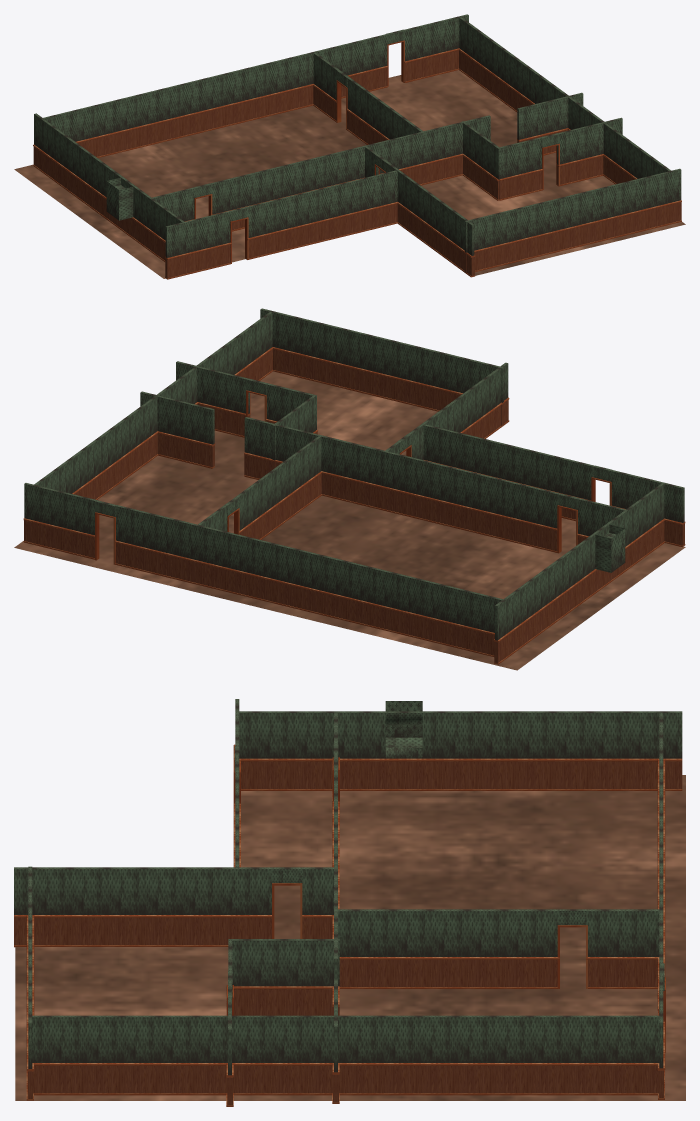
Rendered from Casa_Interior_Basic.obj.
The picture shows the model from 3 angles, top to bottom: view 1: azimuth 30°, elevation 25°; view 2: azimuth 150°, elevation 25°; view 3: azimuth 270°, elevation 25°; orthographic projection. The views are drawn at different scales.
Visible parts, largest first — view 1: Plane, Pared.012_Cube_Cube.013, Pared.015_Cube_Cube.016, Pared.016_Cube_Cube.018, Pared.020_Cube_Cube.022, Pared.008_Cube_Cube.009, Pared.009_Cube_Cube.010, Pared.010_Cube_Cube.011, Pared.011_Cube_Cube.017, Pared.021_Cube_Cube.023, Pared.018_Cube_Cube.020, Pared.017_Cube_Cube.019 (+5 smaller); view 2: Plane, Pared.012_Cube_Cube.013, Pared.016_Cube_Cube.018, Pared.015_Cube_Cube.016, Pared.008_Cube_Cube.009, Pared.009_Cube_Cube.010, Pared.020_Cube_Cube.022, Pared.018_Cube_Cube.020, Pared.021_Cube_Cube.023, Pared.010_Cube_Cube.011, Pared.003_Cube_Cube.002, Pared.017_Cube_Cube.019 (+4 smaller); view 3: Plane, Pared.009_Cube_Cube.010, Pared.008_Cube_Cube.009, Pared.010_Cube_Cube.011, Pared.018_Cube_Cube.020, Pared.014_Cube_Cube.015, Pared.019_Cube_Cube.021, Pared.002_Cube_Cube.012, Pared.012_Cube_Cube.013, Pared.015_Cube_Cube.016, Pared.016_Cube_Cube.018, Pared.021_Cube_Cube.023 (+3 smaller).
Boxes of the visible parts, x1,y1,x2,y2 form: Plane: [14, 70, 685, 278]; Pared.012_Cube_Cube.013: [42, 34, 387, 157]; Pared.015_Cube_Cube.016: [464, 168, 681, 273]; Pared.016_Cube_Cube.018: [210, 115, 490, 231]; Pared.020_Cube_Cube.022: [246, 170, 397, 259]; Pared.008_Cube_Cube.009: [33, 113, 184, 261]; Pared.009_Cube_Cube.010: [459, 17, 670, 184]; Pared.010_Cube_Cube.011: [385, 162, 475, 277]; Pared.011_Cube_Cube.017: [165, 211, 231, 279]; Pared.021_Cube_Cube.023: [403, 14, 468, 82]; Pared.018_Cube_Cube.020: [346, 78, 422, 144]; Pared.017_Cube_Cube.019: [556, 117, 622, 186]; Plane: [14, 371, 685, 670]; Pared.012_Cube_Cube.013: [115, 505, 503, 656]; Pared.016_Cube_Cube.018: [244, 417, 560, 552]; Pared.015_Cube_Cube.016: [260, 308, 504, 426]; Pared.008_Cube_Cube.009: [493, 483, 664, 664]; Pared.009_Cube_Cube.010: [34, 312, 272, 499]; Pared.020_Cube_Cube.022: [423, 424, 593, 521]; Pared.018_Cube_Cube.020: [236, 436, 321, 539]; Pared.021_Cube_Cube.023: [23, 483, 97, 559]; Pared.010_Cube_Cube.011: [409, 362, 509, 459]; Pared.003_Cube_Cube.002: [140, 391, 215, 468]; Pared.017_Cube_Cube.019: [176, 361, 250, 437]; Plane: [15, 775, 685, 1100]; Pared.009_Cube_Cube.010: [32, 1015, 659, 1095]; Pared.008_Cube_Cube.009: [239, 701, 682, 790]; Pared.010_Cube_Cube.011: [14, 867, 271, 947]; Pared.018_Cube_Cube.020: [338, 909, 559, 988]; Pared.014_Cube_Cube.015: [228, 939, 339, 1015]; Pared.019_Cube_Cube.021: [586, 909, 659, 988]; Pared.002_Cube_Cube.012: [302, 867, 333, 938]; Pared.012_Cube_Cube.013: [657, 712, 665, 1015]; Pared.015_Cube_Cube.016: [26, 866, 34, 1100]; Pared.016_Cube_Cube.018: [332, 755, 339, 1015]; Pared.021_Cube_Cube.023: [657, 975, 665, 1099].
Size of the model in its own units: 25.49 by 2.77 by 21.81.
